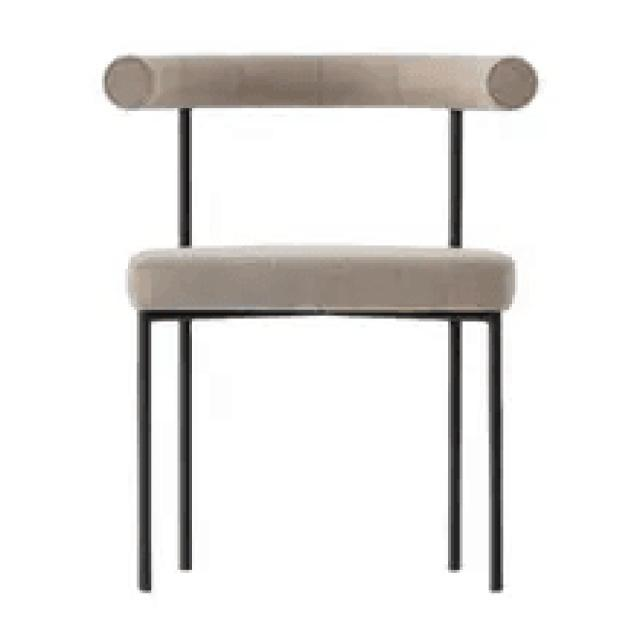chair: (100, 48, 540, 592), (104, 55, 536, 312)
